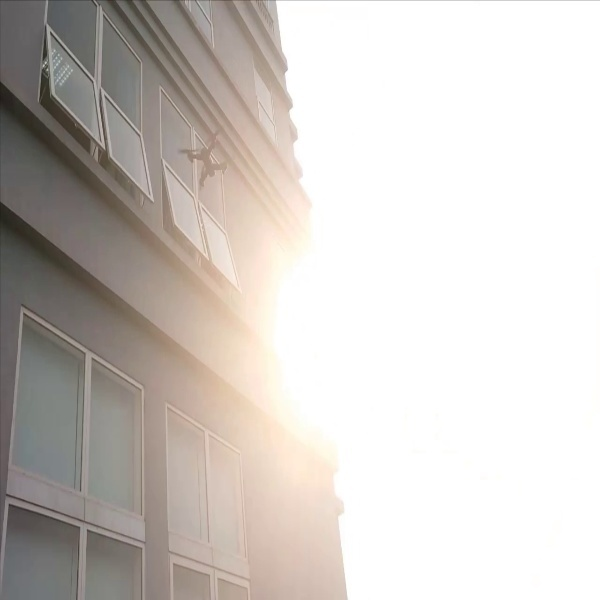drone: (169, 122, 240, 204)
